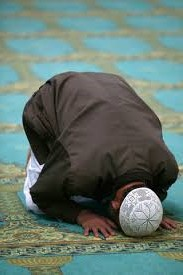sujud: (15, 70, 182, 236)
